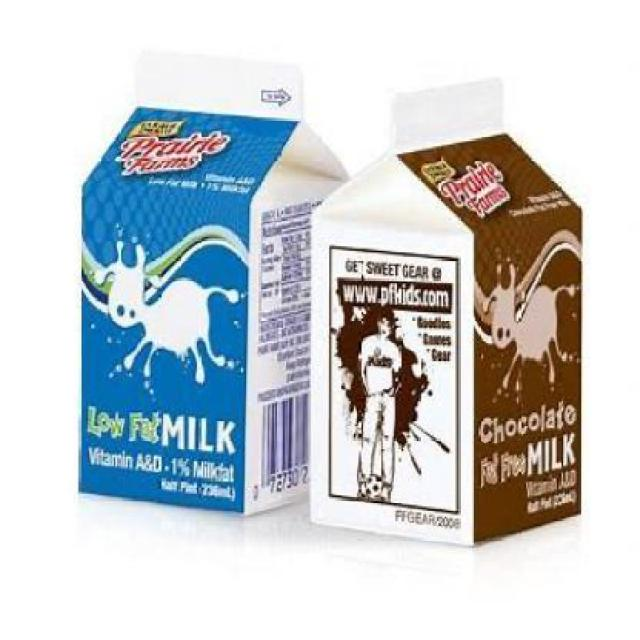drink carton: (306, 71, 595, 557), (77, 44, 329, 520)
